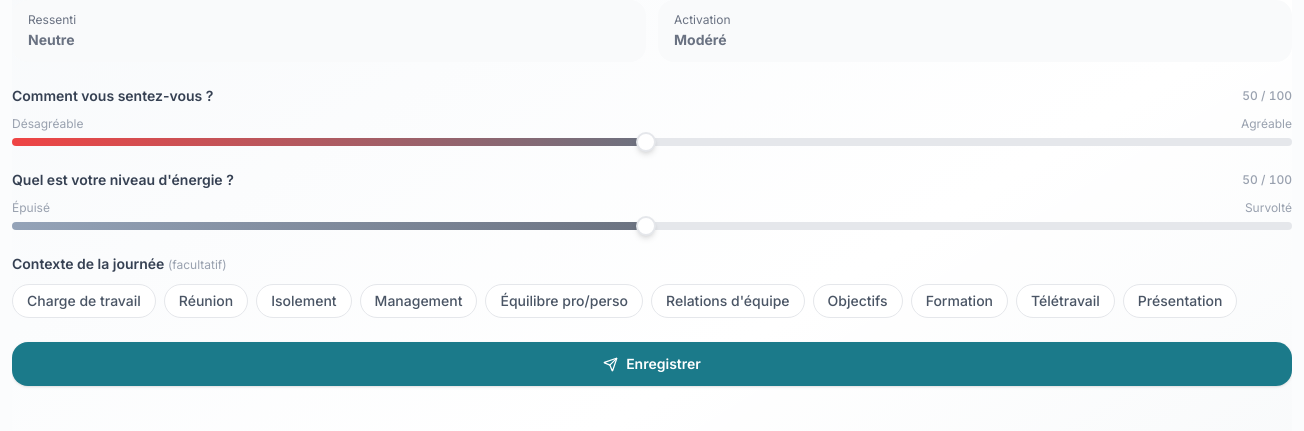
MoodForm — Tags de contexte professionnel › désélectionne un tag au second clic
Click the button "Réunion" at (206, 301), box [164, 284, 248, 318]
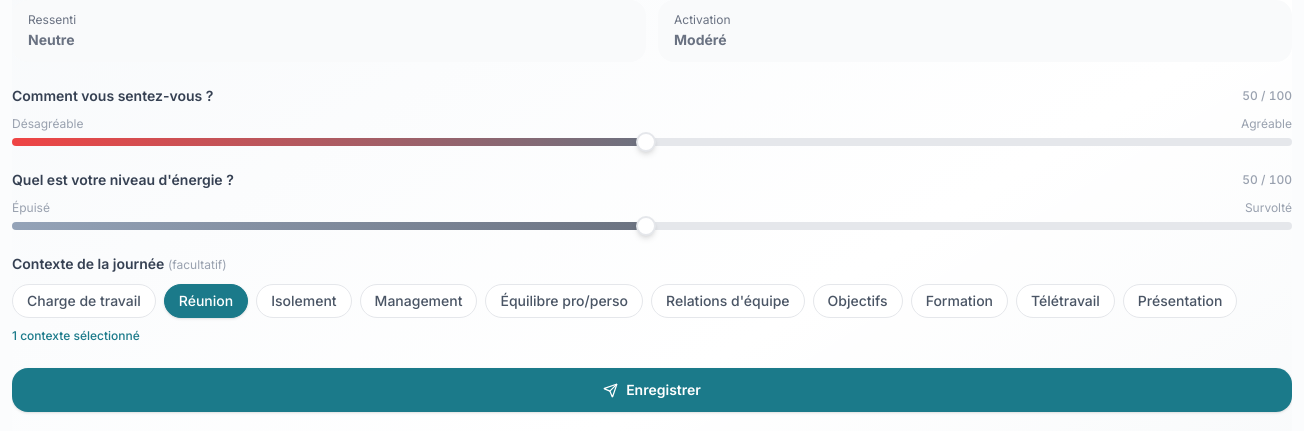
Click the button "Réunion" at (206, 301), box [164, 284, 248, 318]
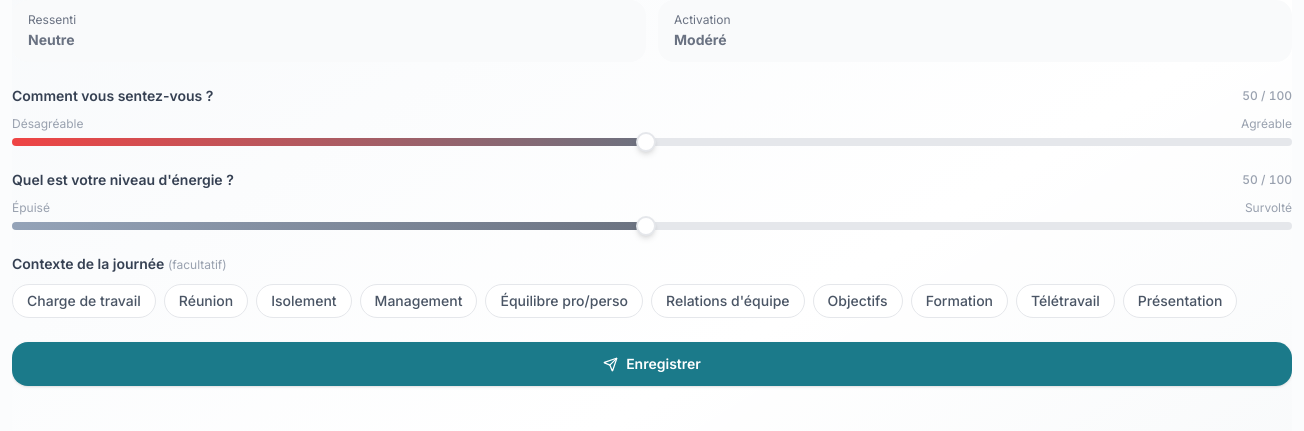
Expected: the text "sélectionné" is gone
